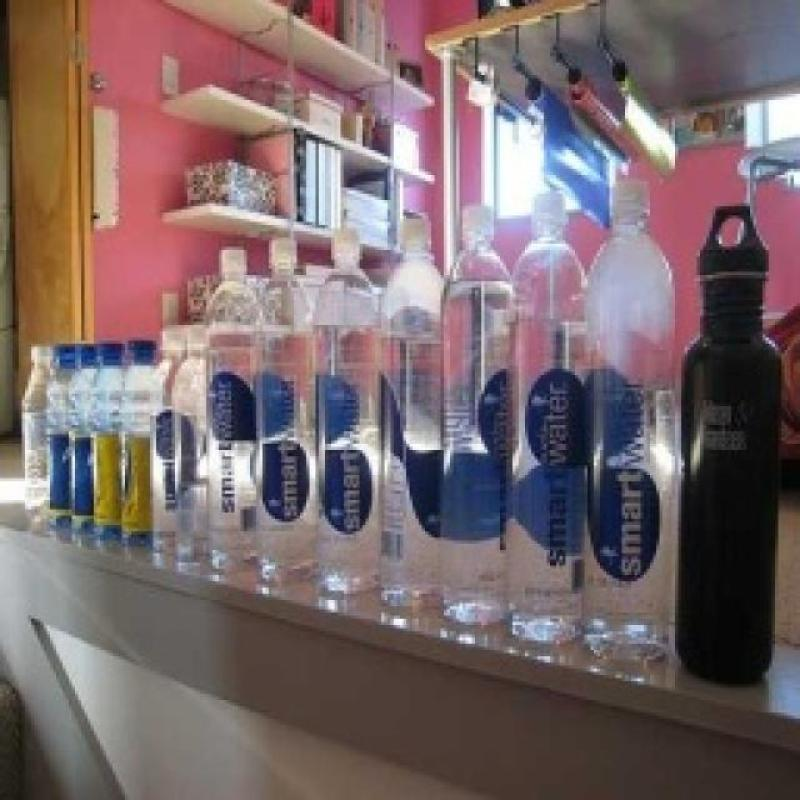botella: (581, 183, 677, 659), (506, 190, 586, 650), (443, 205, 509, 625), (380, 213, 447, 606), (308, 223, 377, 594), (255, 232, 320, 577), (209, 245, 266, 567), (176, 312, 217, 562), (154, 329, 196, 557), (120, 342, 155, 552), (93, 340, 122, 544), (20, 345, 52, 524), (71, 342, 94, 539), (51, 344, 74, 528)
